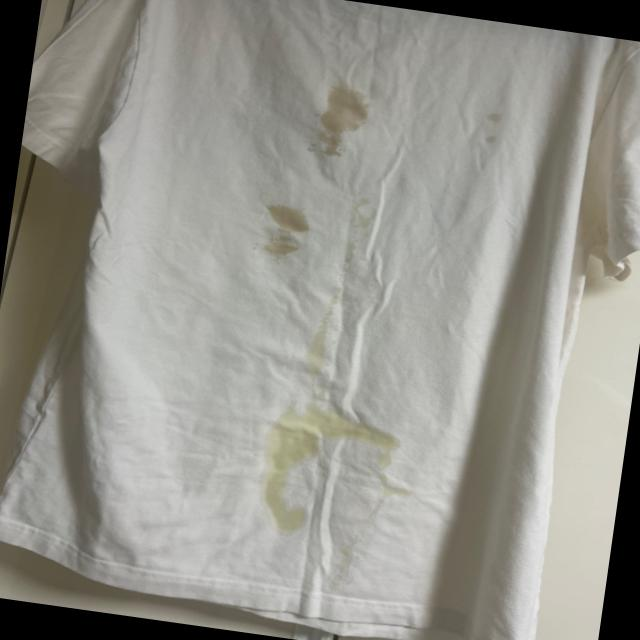stain: (260, 392, 316, 542), (287, 402, 388, 462), (309, 83, 366, 161), (369, 452, 430, 514), (307, 296, 346, 374), (260, 200, 308, 260), (476, 106, 516, 160), (346, 196, 387, 248)
